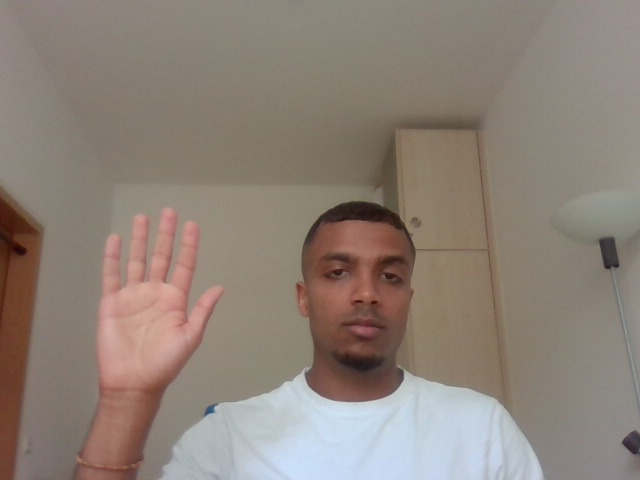never: (86, 190, 235, 403)
